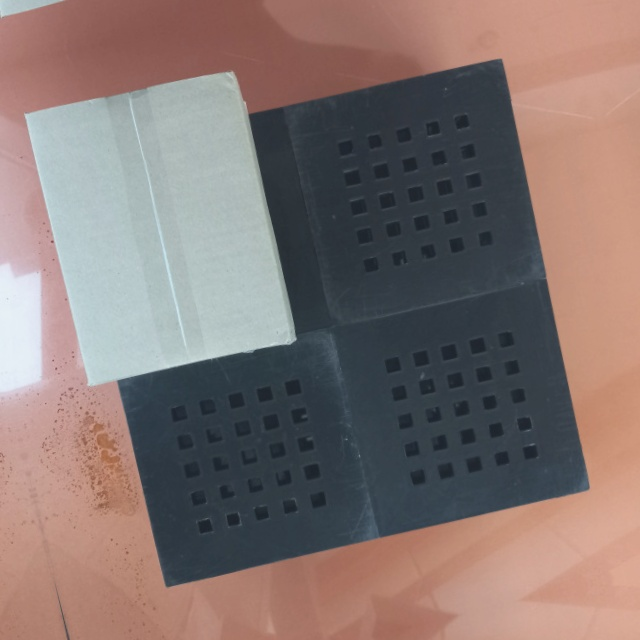box: (25, 71, 291, 390)
pallet: (64, 50, 602, 597)
